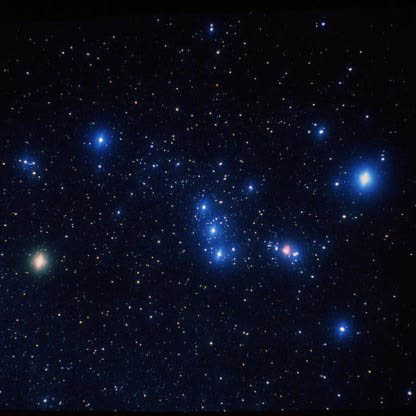Orion: (346, 154, 388, 196), (20, 245, 56, 281), (331, 315, 362, 350), (91, 116, 118, 155), (206, 242, 233, 272), (190, 195, 213, 216), (203, 222, 225, 241)
